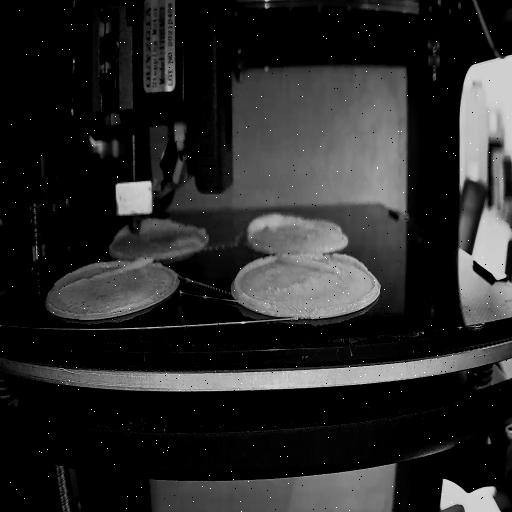over_extrusion: (60, 254, 153, 296), (278, 253, 366, 276), (233, 257, 273, 307), (246, 212, 302, 239), (141, 220, 205, 234), (314, 217, 344, 234), (109, 222, 132, 244)
